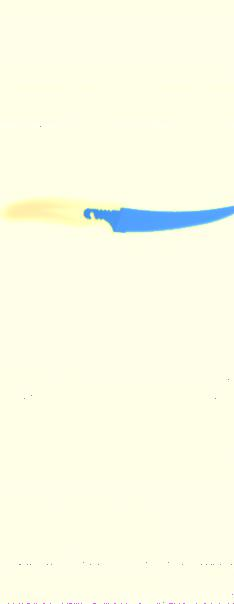Knife: (1, 199, 234, 236)
